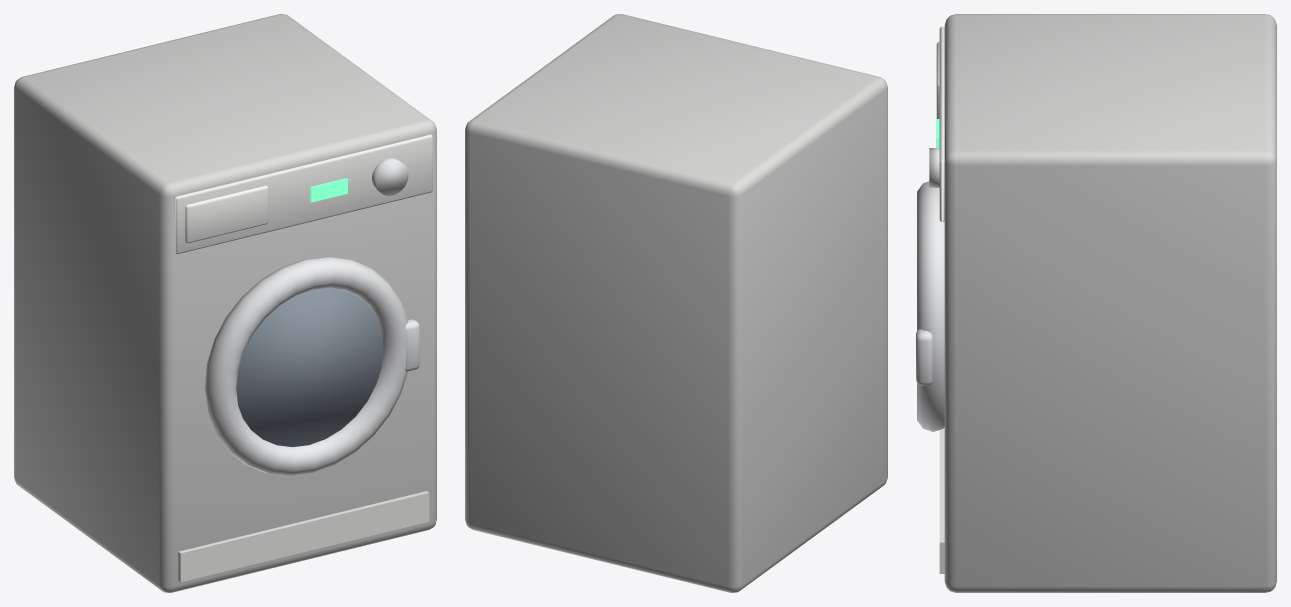
File: washer.glb
3 renders of one model, left to right at view 1: azimuth 30°, elevation 25°; view 2: azimuth 150°, elevation 25°; view 3: azimuth 270°, elevation 25°, orthographic. The views are drawn at different scales.
Parts seen in each view (by area): view 1: Cube, Cylinder.001, Torus, Cube.001, Cube.005, Cube.002, Cylinder, Cube.004, Cube.003; view 2: Cube; view 3: Cube, Torus, Cube.001, Cube.004, Cube.005.
Part boxes in pixels (x1=…): Cube: x1=14, y1=14, x2=436, y2=592; Cylinder.001: x1=236, y1=287, x2=383, y2=447; Torus: x1=204, y1=256, x2=408, y2=475; Cube.001: x1=174, y1=134, x2=432, y2=254; Cube.005: x1=178, y1=491, x2=429, y2=582; Cube.002: x1=185, y1=185, x2=268, y2=243; Cylinder: x1=372, y1=158, x2=408, y2=195; Cube.004: x1=405, y1=319, x2=419, y2=371; Cube.003: x1=309, y1=178, x2=347, y2=202; Cube: x1=465, y1=14, x2=887, y2=592; Cube: x1=944, y1=14, x2=1276, y2=592; Torus: x1=917, y1=181, x2=944, y2=431; Cube.001: x1=939, y1=26, x2=944, y2=221; Cube.004: x1=916, y1=329, x2=933, y2=385; Cube.005: x1=939, y1=427, x2=944, y2=573.
Size of the model in its own units: 0.6 by 0.85 by 0.63.
